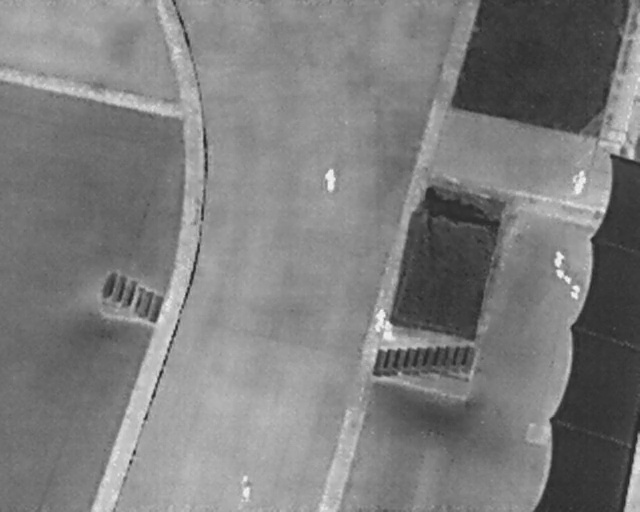Person: (569, 167, 589, 198), (323, 166, 337, 195), (372, 306, 387, 331), (241, 476, 253, 502), (382, 320, 395, 340)
